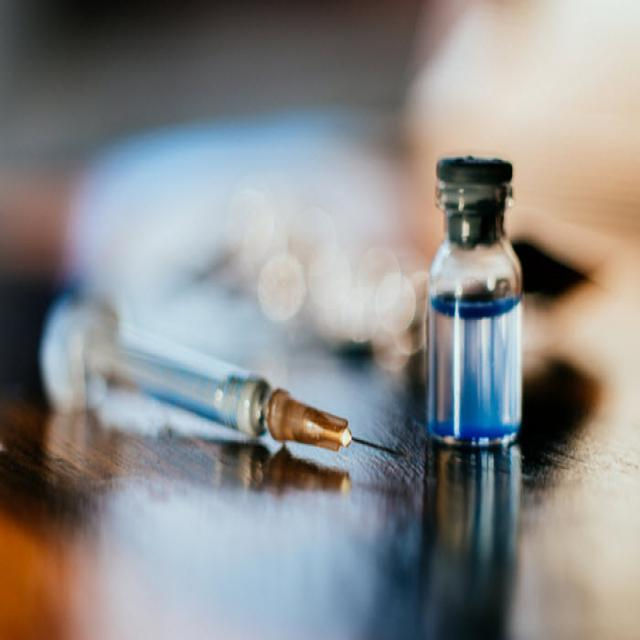B3: (418, 143, 546, 472)
